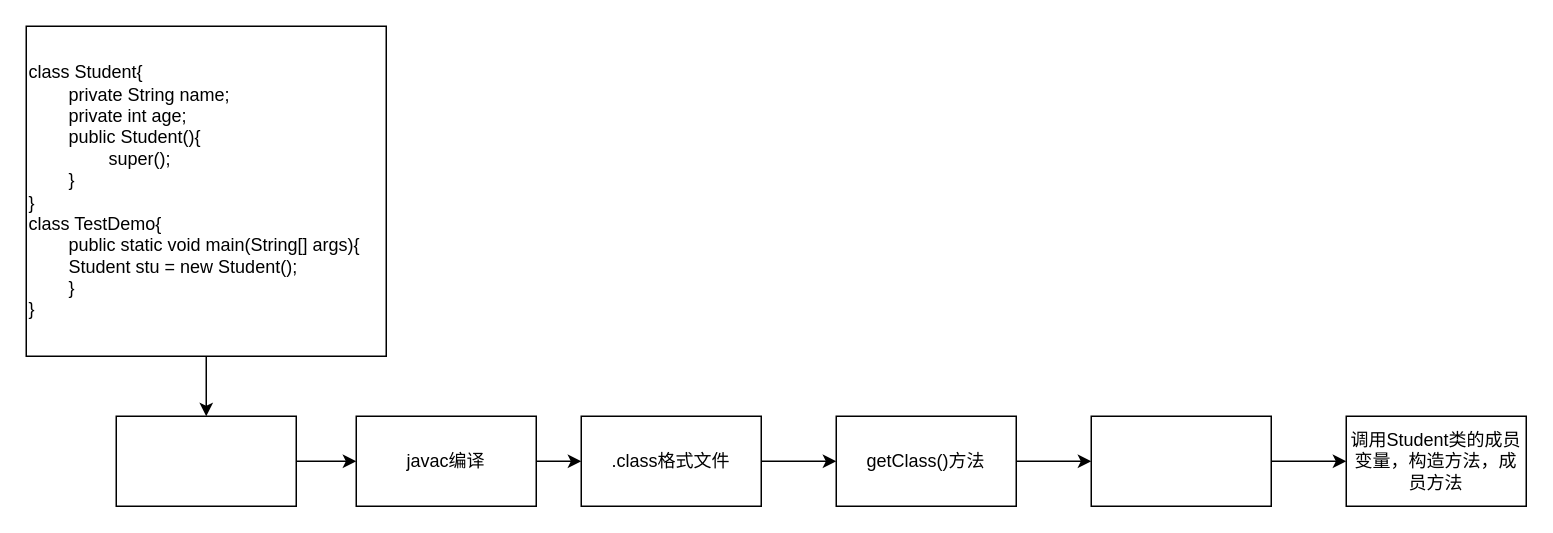
Image size: 1553x533. Some labels were removed from this diagram. Each missing label, with the centre of its shape:
Class类对象: the point at 1180,460
写入.java格式文件: the point at 205,460
